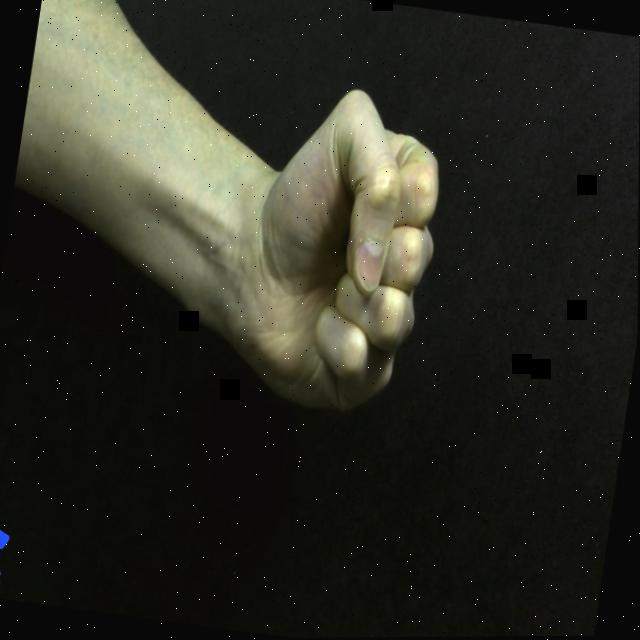Rock: (230, 72, 456, 427)
